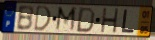B: (15, 5, 35, 32)
D: (75, 6, 97, 33), (33, 4, 53, 33)
H: (100, 8, 120, 34)
L: (120, 9, 135, 34)
M: (54, 5, 78, 33)
